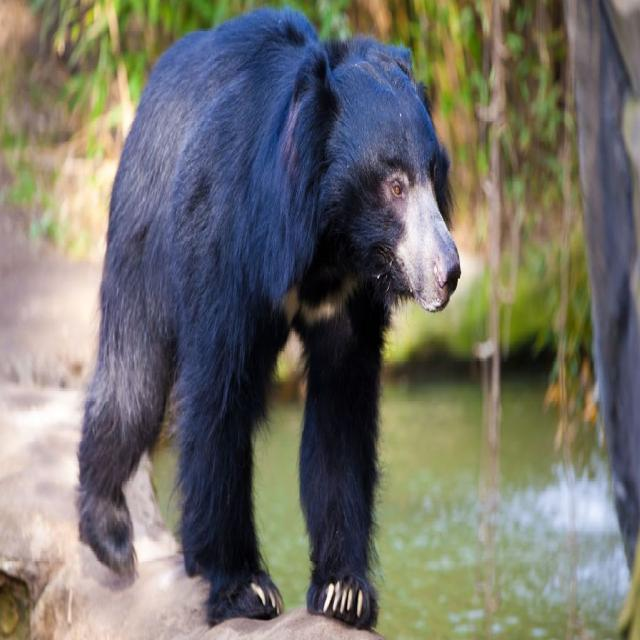Bear: (73, 4, 461, 630)
